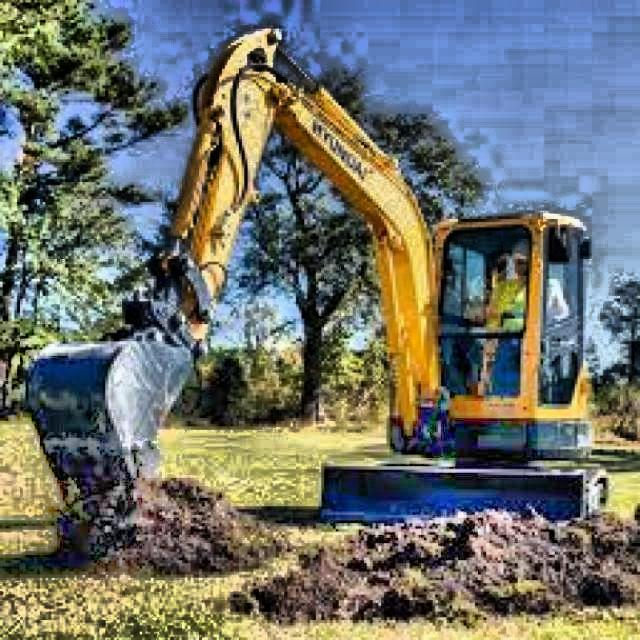bull_dozer/loader/grader: (21, 23, 612, 525)
person: (486, 237, 570, 327)
